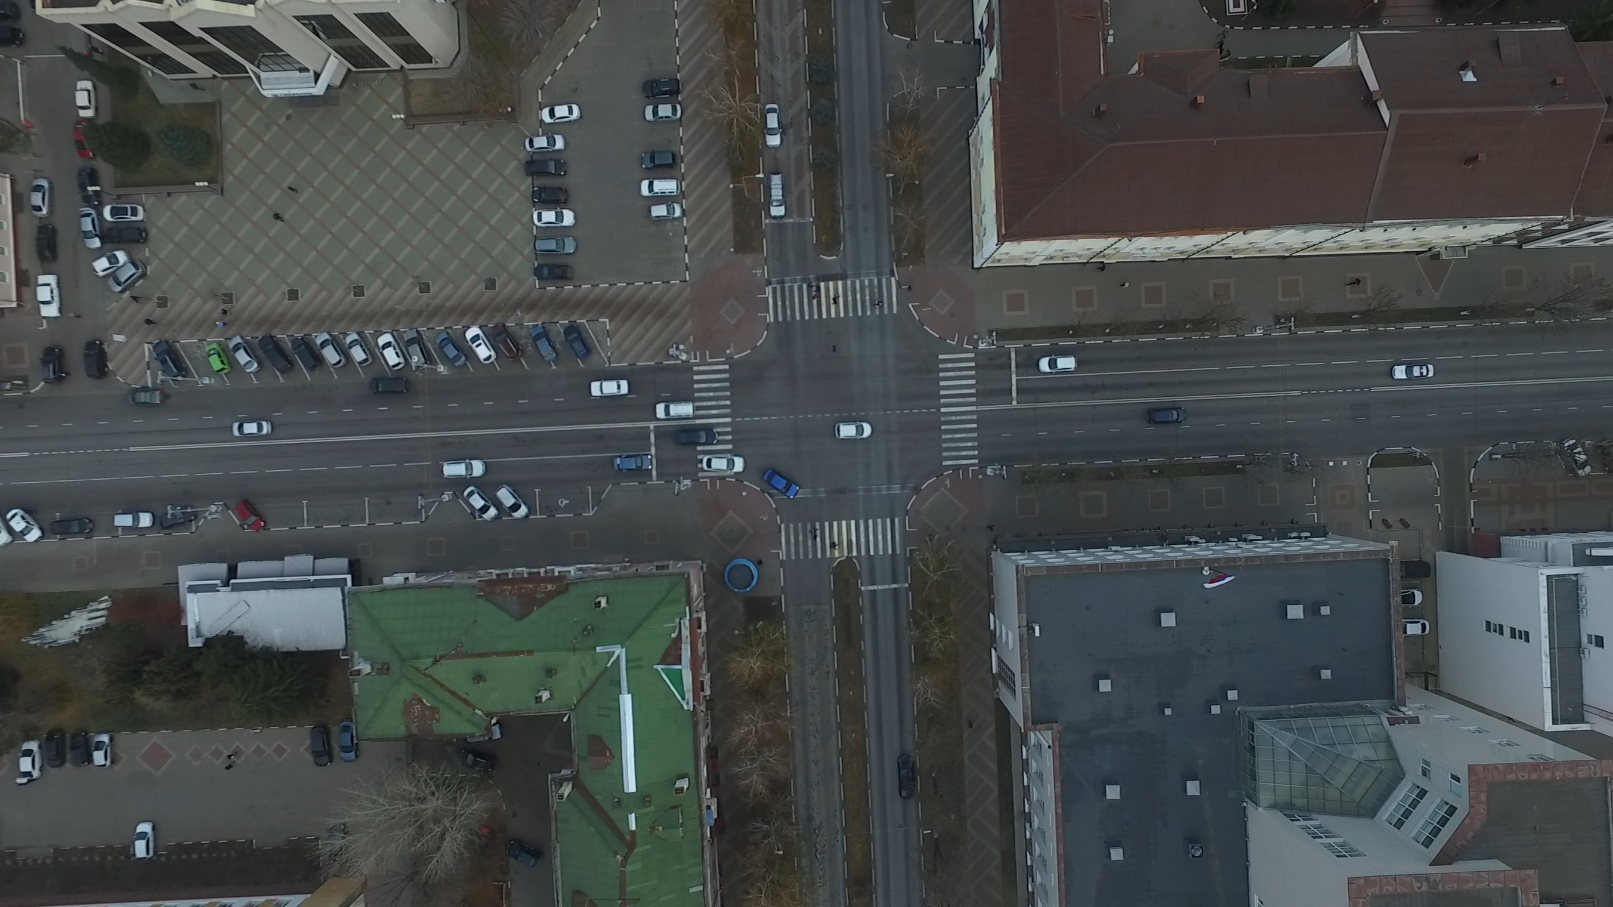car: (147, 341, 187, 383), (459, 484, 500, 521), (257, 332, 292, 374), (1561, 434, 1595, 476), (220, 332, 256, 372), (314, 330, 348, 370), (463, 324, 497, 363), (31, 274, 60, 319), (103, 264, 145, 295), (485, 323, 520, 361), (428, 326, 462, 363), (3, 509, 38, 547), (761, 467, 799, 502), (12, 741, 40, 787), (395, 328, 425, 370), (35, 732, 70, 769), (505, 838, 544, 870), (307, 726, 333, 773), (325, 821, 352, 865), (526, 324, 556, 365), (493, 482, 527, 517), (373, 329, 405, 367), (153, 503, 197, 529), (458, 748, 496, 777), (80, 340, 106, 383), (338, 331, 371, 365), (97, 220, 142, 246), (130, 821, 156, 863), (92, 256, 132, 284), (70, 125, 95, 168), (286, 333, 317, 369), (24, 179, 51, 220), (68, 78, 95, 116), (73, 210, 99, 252), (896, 755, 919, 801), (72, 169, 97, 210), (441, 458, 490, 480), (531, 207, 576, 229), (763, 104, 785, 150), (335, 721, 358, 764), (232, 499, 263, 532), (563, 324, 592, 359), (201, 341, 228, 377), (535, 100, 581, 121), (39, 344, 62, 385), (106, 207, 148, 229), (1387, 363, 1436, 382), (640, 100, 684, 121), (521, 159, 568, 178), (533, 235, 577, 255), (45, 517, 92, 536), (653, 400, 694, 421), (232, 418, 273, 439), (368, 377, 411, 396), (34, 228, 56, 267), (641, 75, 680, 97), (1147, 406, 1192, 425), (768, 173, 787, 218), (70, 733, 93, 770), (639, 177, 681, 197), (88, 736, 112, 771), (700, 454, 744, 473), (638, 147, 676, 169), (1036, 355, 1082, 373), (607, 454, 654, 472), (644, 200, 682, 221), (530, 184, 569, 204), (678, 427, 718, 447), (524, 133, 566, 152), (585, 380, 631, 396), (531, 262, 574, 280), (833, 421, 873, 440), (130, 386, 169, 405), (109, 513, 150, 530), (1400, 559, 1431, 580), (1, 516, 18, 555), (1399, 586, 1422, 609), (1401, 618, 1432, 635), (1, 27, 24, 45)
